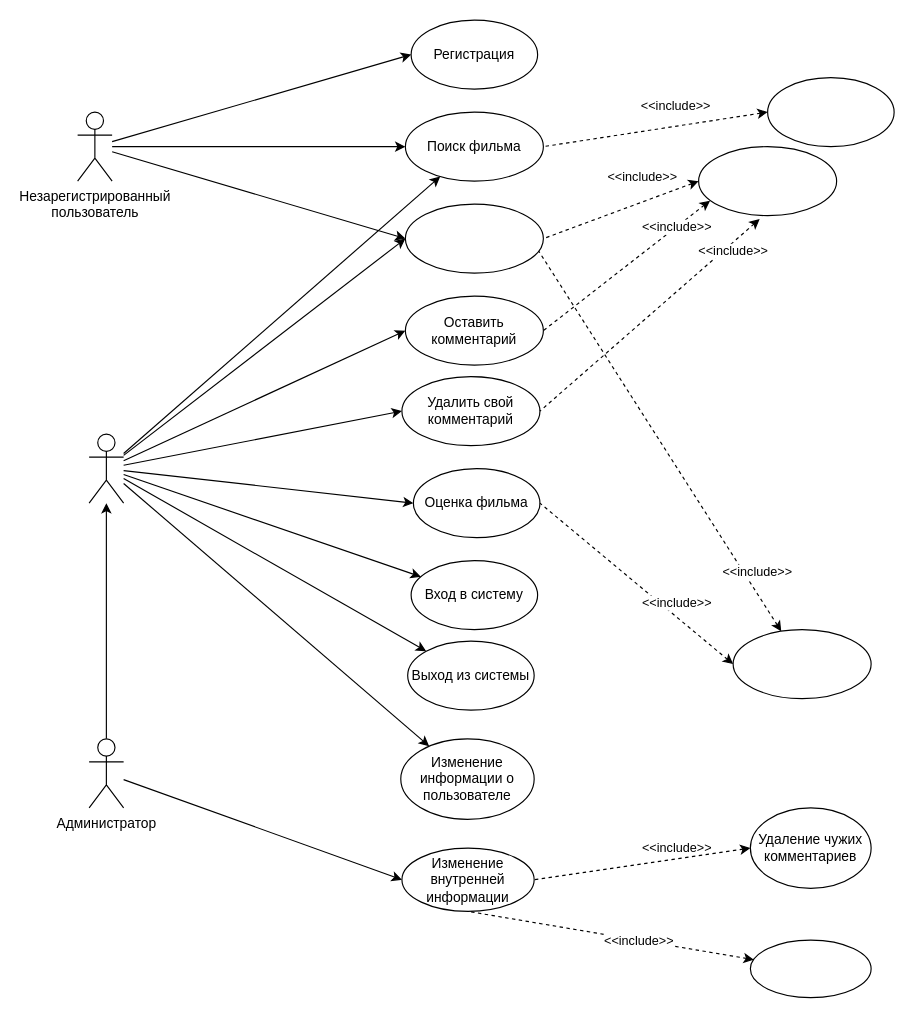
This 914x1018 diagram has some shape labels left out. Each missing label, with the centre of its shape:
Зарегистрированный пользоватлеь: the point at 106,468
Изменение информации о фильмах: the point at 810,968
Просмотр информации о фильме: the point at 473,238
Просмотр комментариев: the point at 767,180
Просмотр оценки фильма: the point at 801,663
Расширенный поиск по фильмам: the point at 830,111
